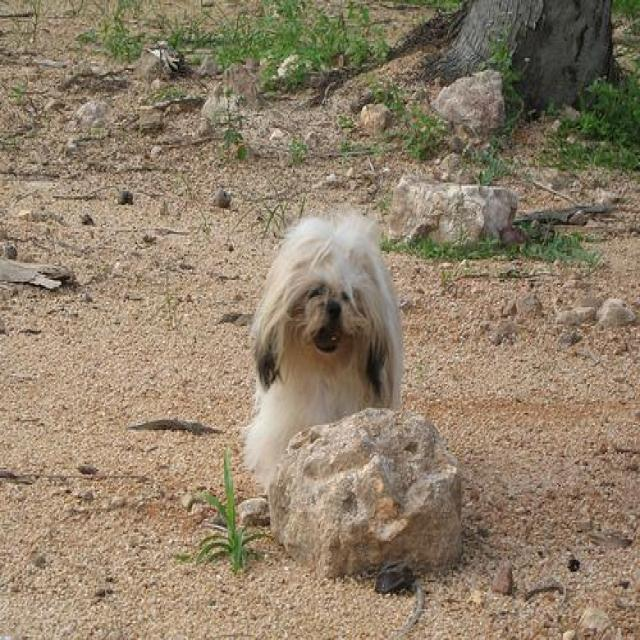shih_tzu: (240, 208, 404, 497)
